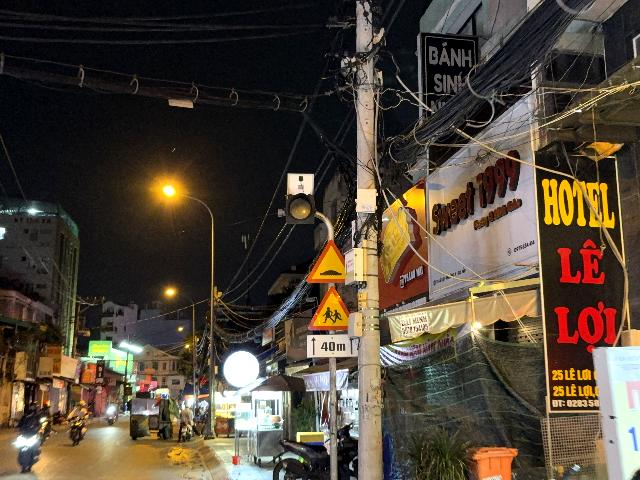duong-co-go-giam-toc: (306, 240, 345, 283)
tre-em-qua-duong: (309, 285, 349, 330)
